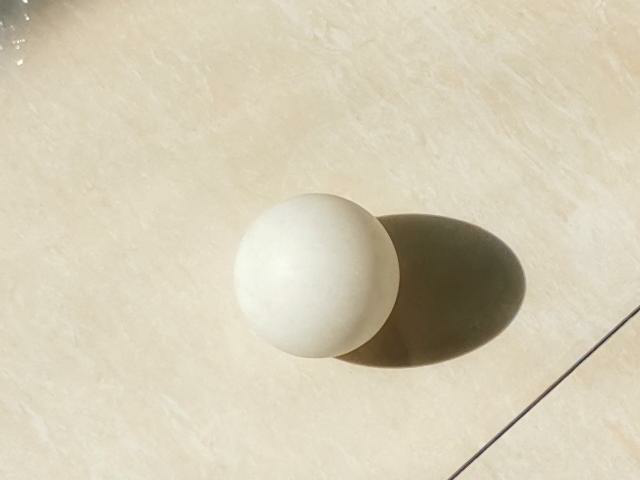ball: (238, 192, 398, 357)
